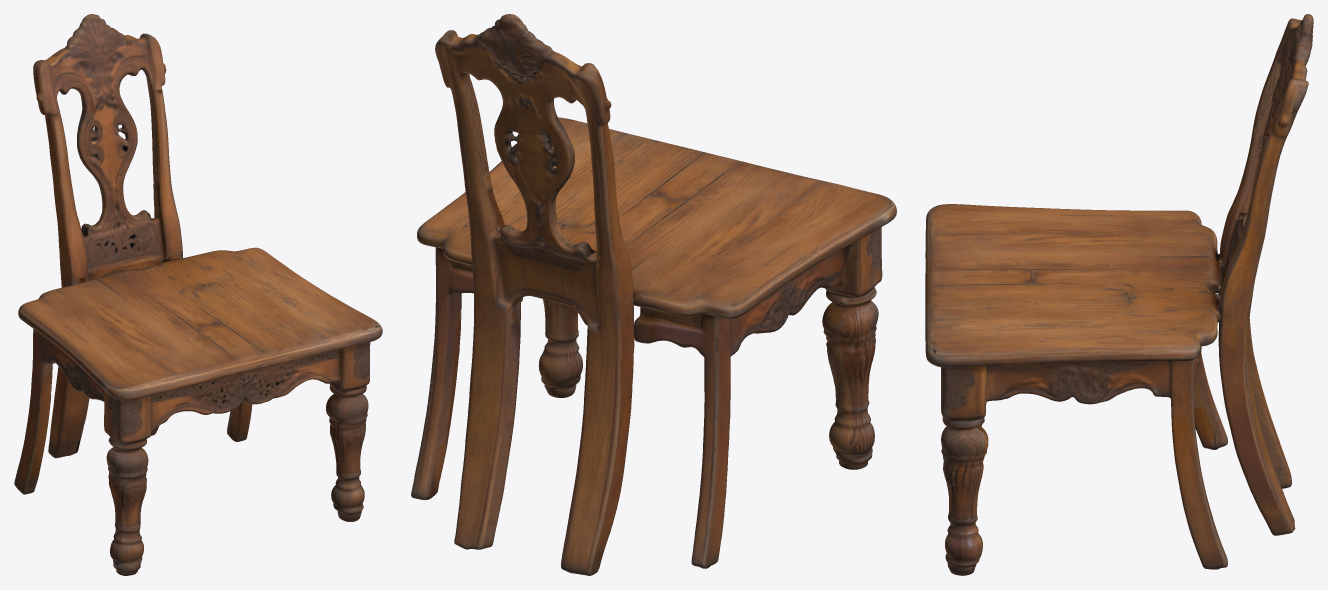
The model's file is tavern_chair.glb.
3 views of the same model, side by side, from view 1: azimuth 30°, elevation 25°; view 2: azimuth 150°, elevation 25°; view 3: azimuth 270°, elevation 25° (orthographic). The views are drawn at different scales.
Bounding box in the file's own units: 1.33 × 2 × 1.42.
1 material, 1 textured.
